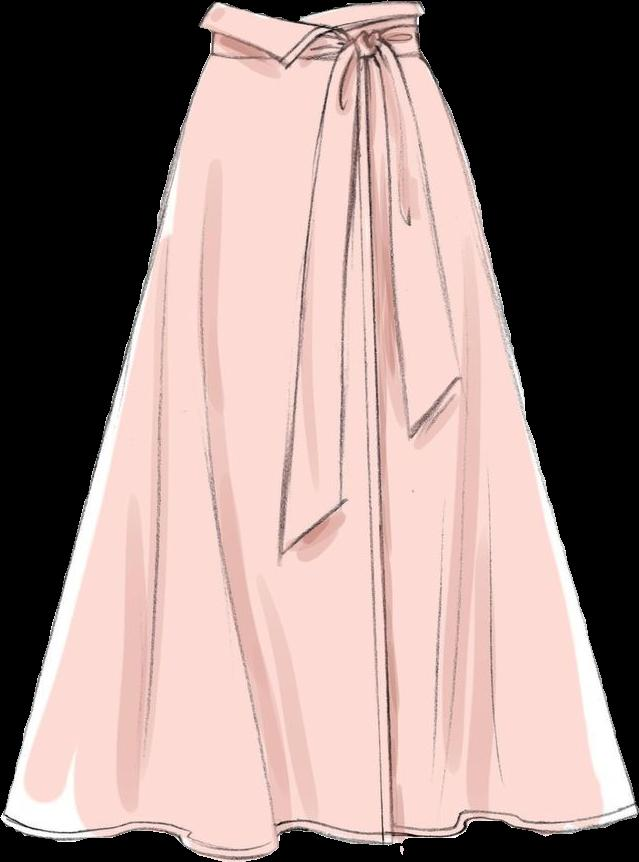Hemline: (0, 808, 638, 861)
Waistline: (217, 0, 426, 29), (208, 48, 423, 67)
